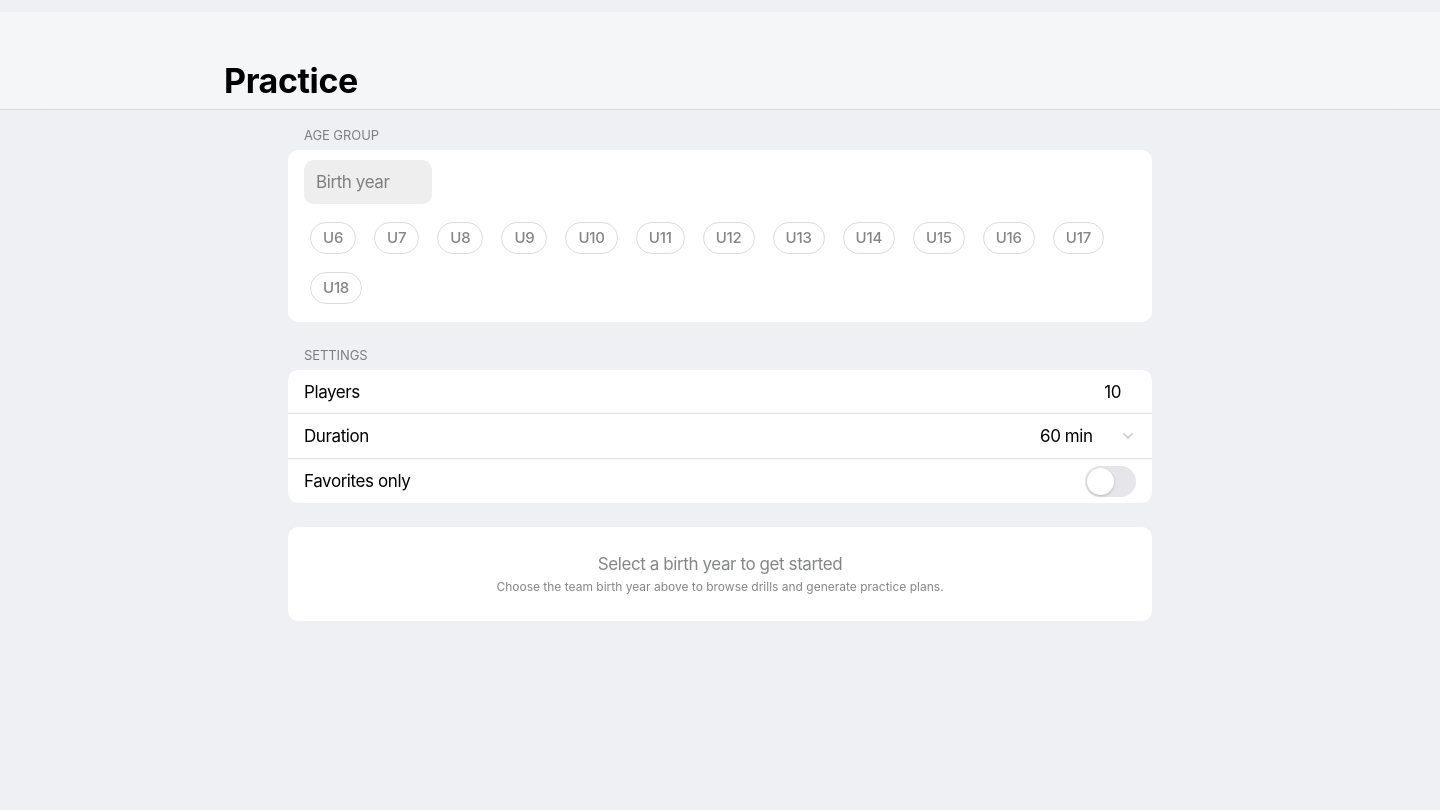
Practice page › removes empty state card after entering a birth year
Expected: the text "Select a birth year to get started" is shown, [598, 554, 842, 574]
Step 1. Click the button "U10" → (592, 238), box [560, 216, 624, 260]
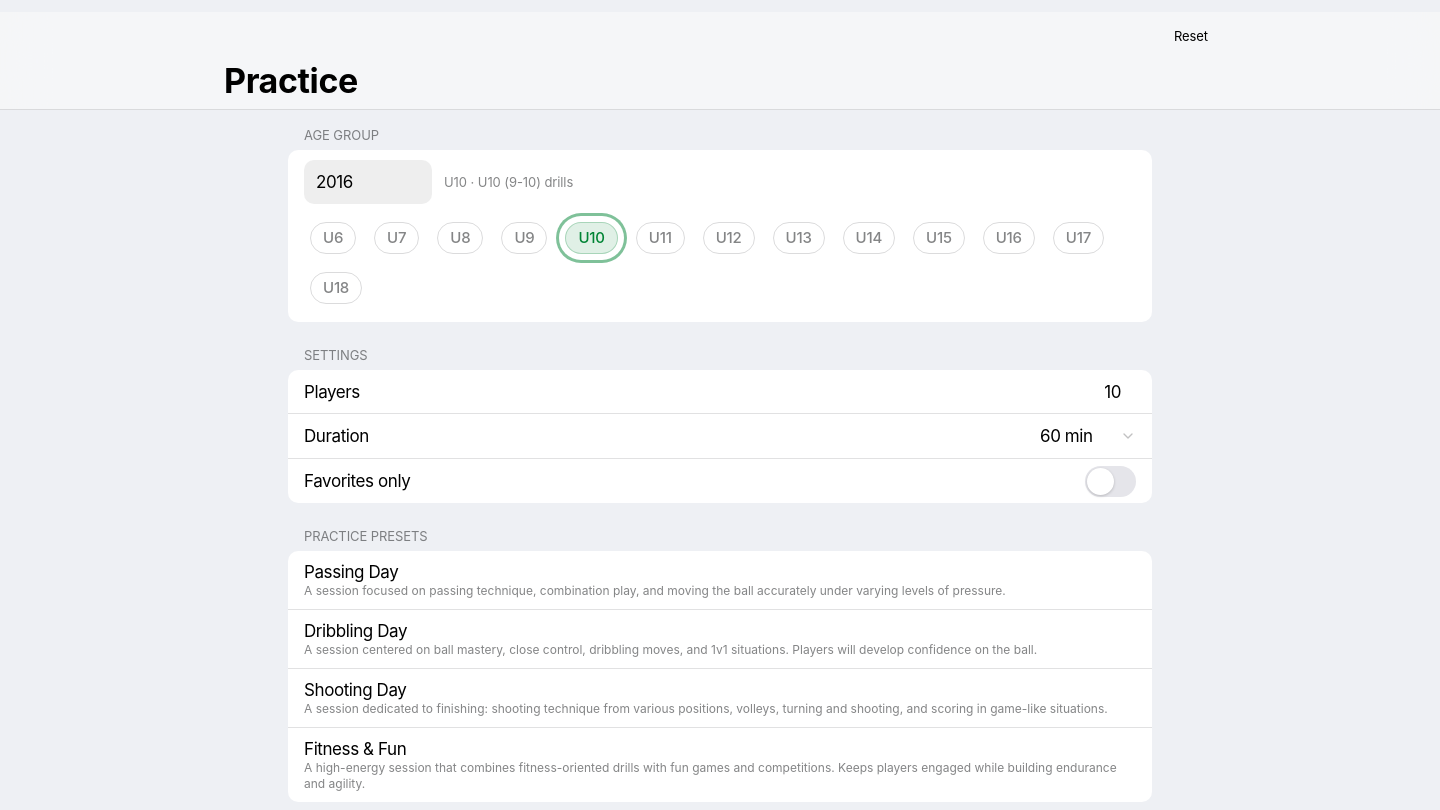
Result: the text "Select a birth year to get started" is gone
